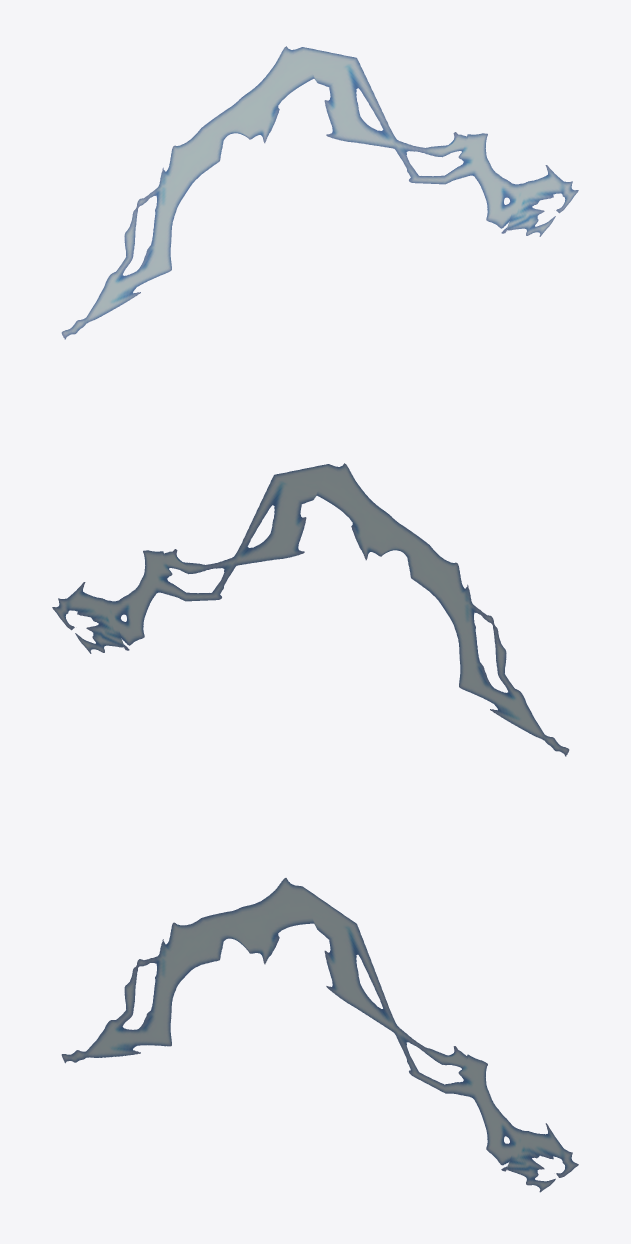
The model's file is shandian_2.FBX.
3 views of the same model, one above another, from view 1: azimuth 30°, elevation 25°; view 2: azimuth 150°, elevation 25°; view 3: azimuth 330°, elevation 25° (orthographic).
Parts seen in each view (by area): view 1: shandian_2; view 2: shandian_2; view 3: shandian_2.
Boxes of the visible parts, x1=… form: shandian_2: x1=61, y1=46, x2=578, y2=339; shandian_2: x1=52, y1=463, x2=569, y2=756; shandian_2: x1=61, y1=878, x2=578, y2=1192.
Size of the model in its own units: 231 by 127 by 2.07e-05.
